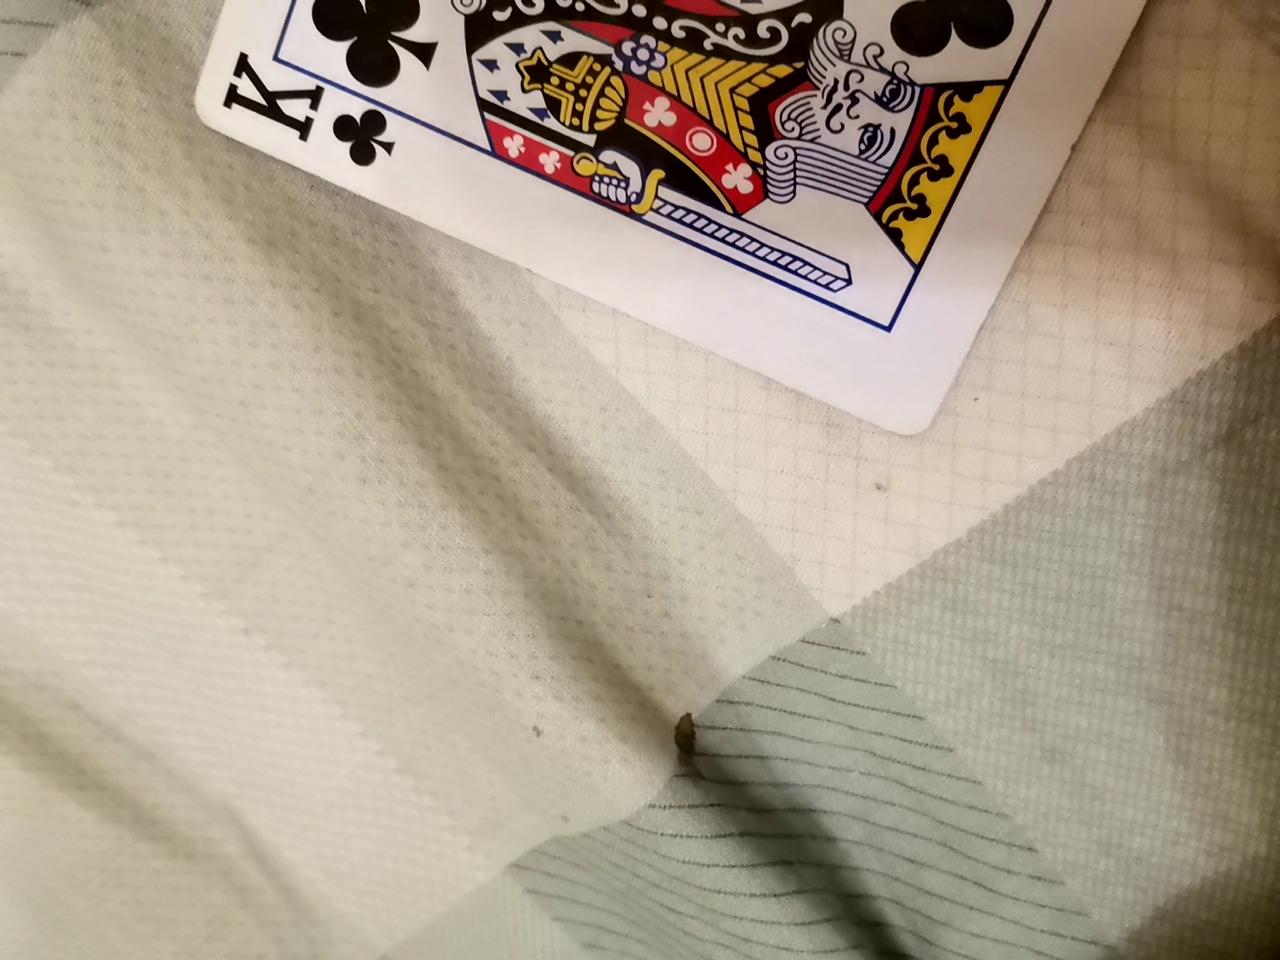mh k: (191, 0, 1197, 431)
